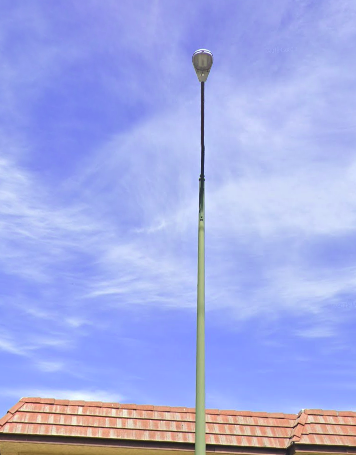pole: (184, 44, 218, 399)
